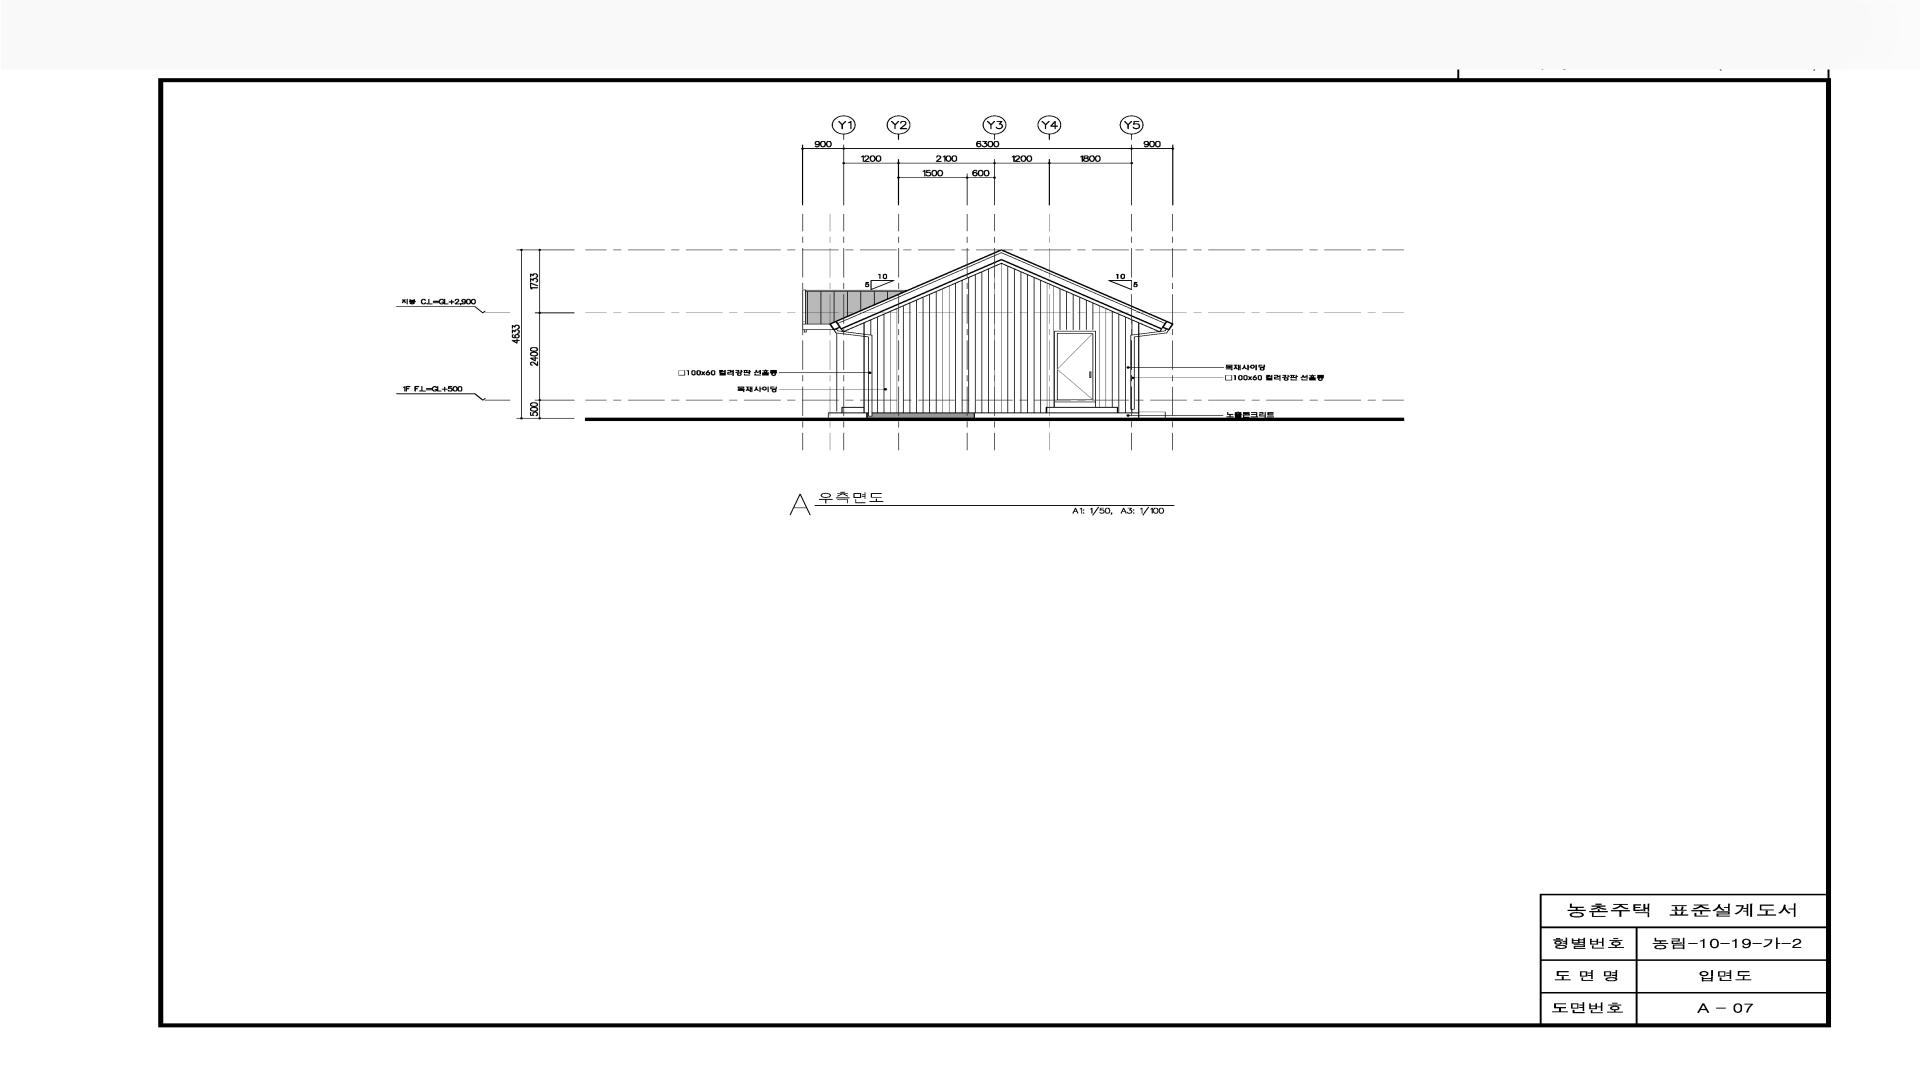door: (1054, 331, 1096, 402)
wall: (836, 249, 1167, 418), (975, 413, 1139, 418)
